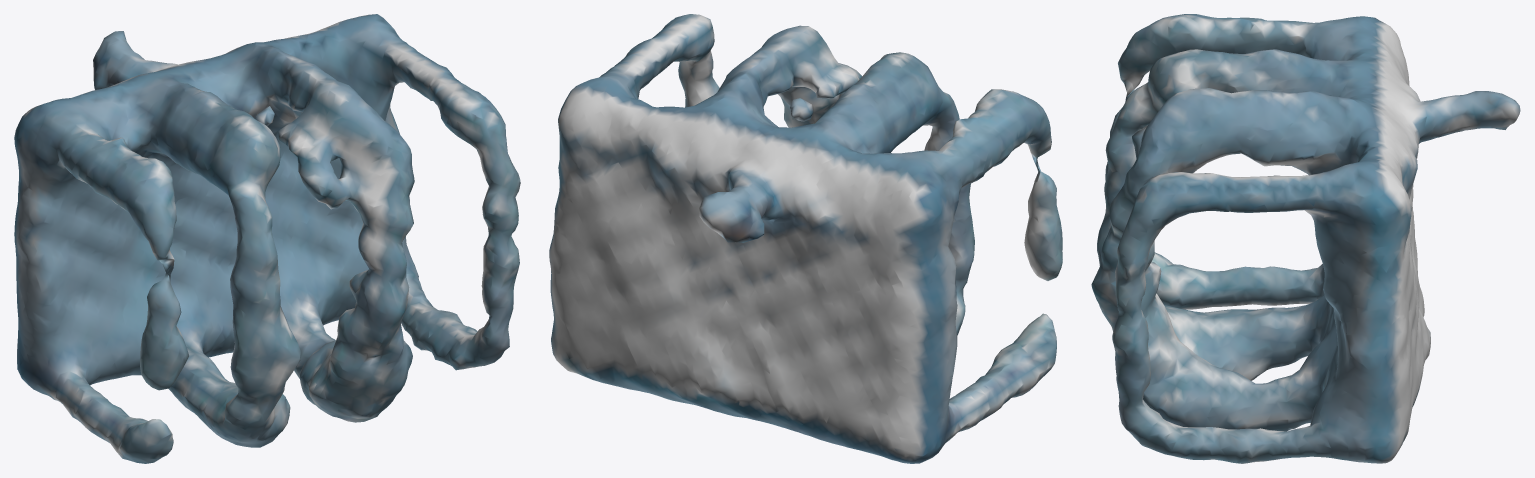
Rendered from sorter.glb.
The picture shows the model from 3 angles, left to right: view 1: azimuth 30°, elevation 25°; view 2: azimuth 150°, elevation 25°; view 3: azimuth 270°, elevation 25°; orthographic projection.
Bounding box in the file's own units: 1 × 0.824 × 0.938.
